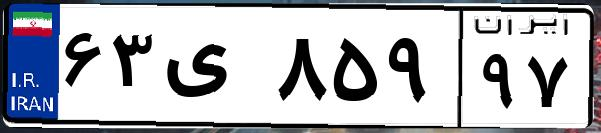3: (110, 28, 158, 98)
5: (330, 28, 385, 110)
6: (57, 26, 110, 100)
7: (525, 38, 570, 115)
8: (270, 28, 330, 110)
9: (385, 28, 445, 110), (475, 38, 525, 113)
ی: (158, 20, 270, 120)
